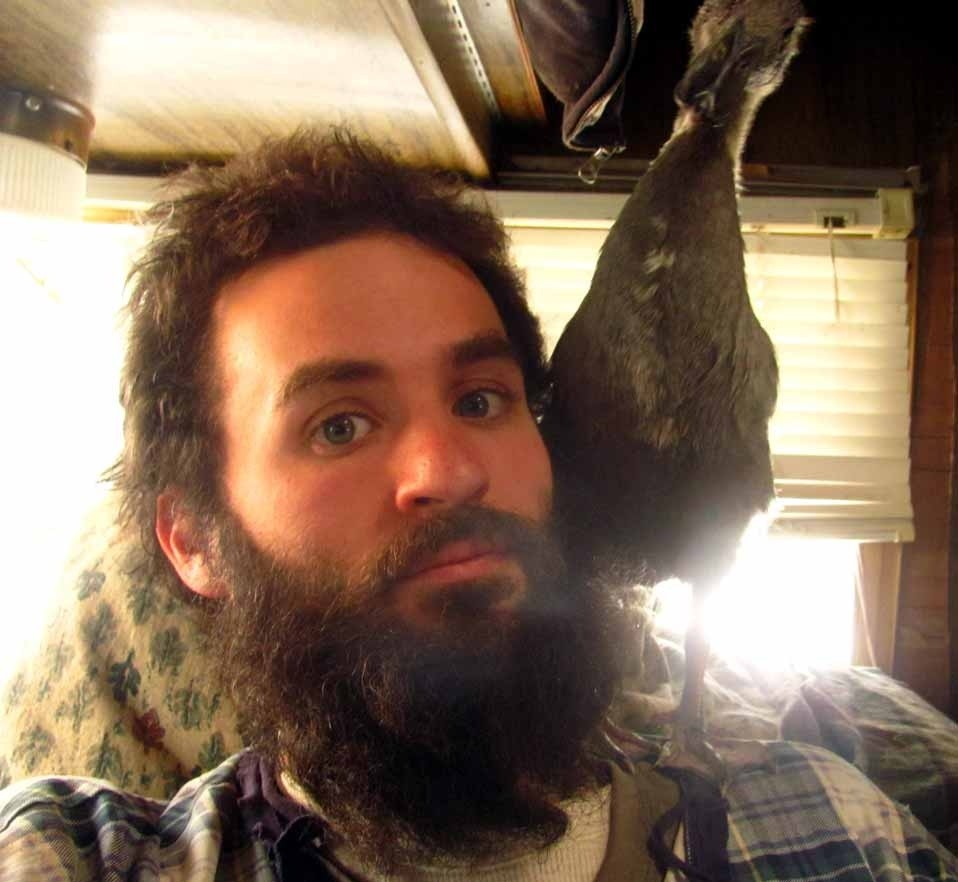face_no_mask: (128, 137, 580, 777)
